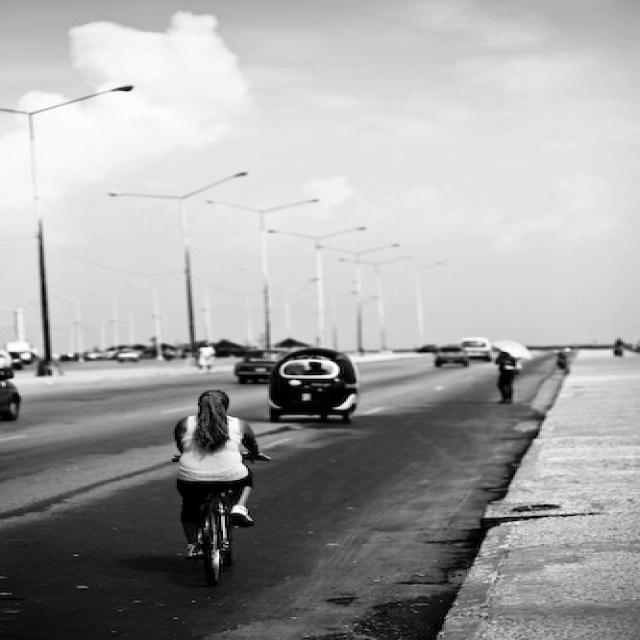Vehicle: (268, 347, 360, 423), (234, 350, 285, 383), (0, 366, 23, 421), (457, 337, 492, 362), (434, 345, 468, 368), (7, 352, 44, 368), (118, 348, 140, 363)
